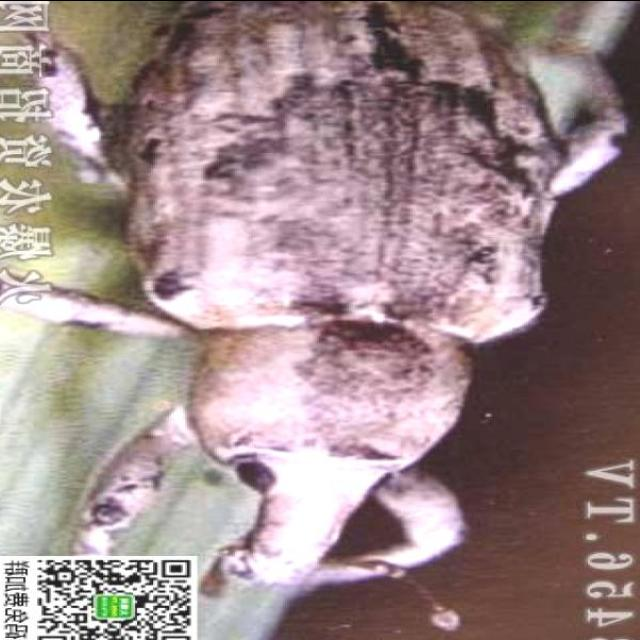ricebug: (24, 0, 570, 595)
